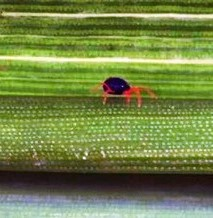Wheat Red Spider: (91, 69, 160, 112)
